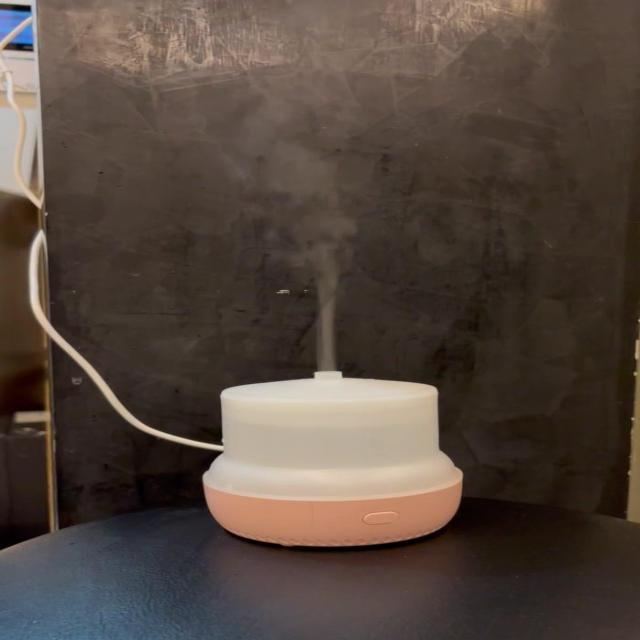fire: (187, 87, 374, 370)
